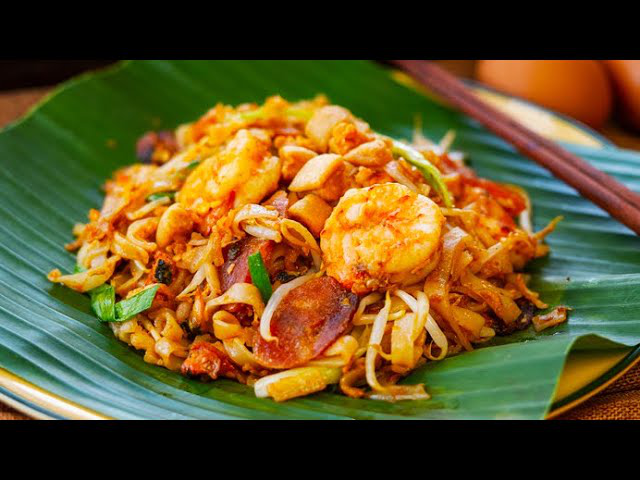Char Kway Teow: (119, 97, 539, 370)
